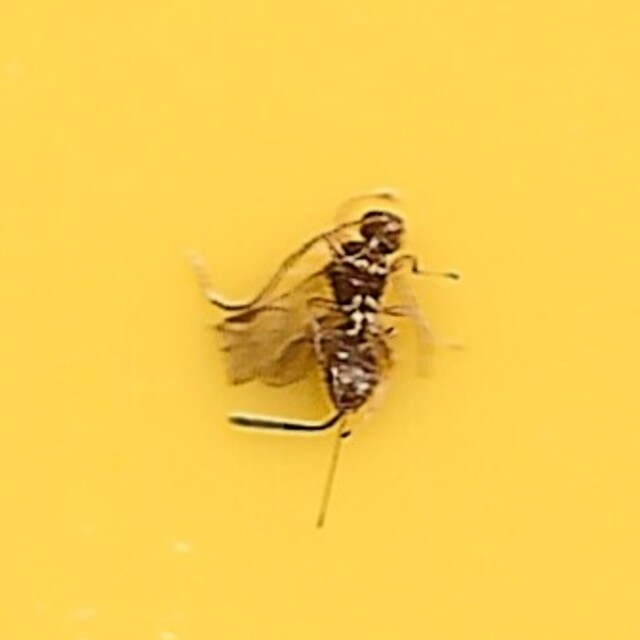Hymenoptera: (190, 189, 450, 451)
